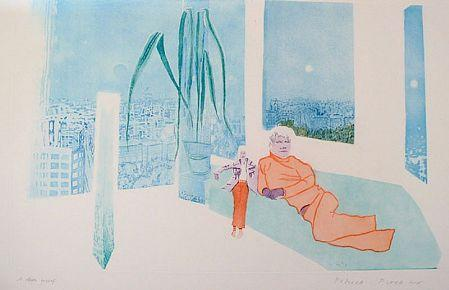person: (246, 126, 398, 256), (217, 144, 260, 239)
